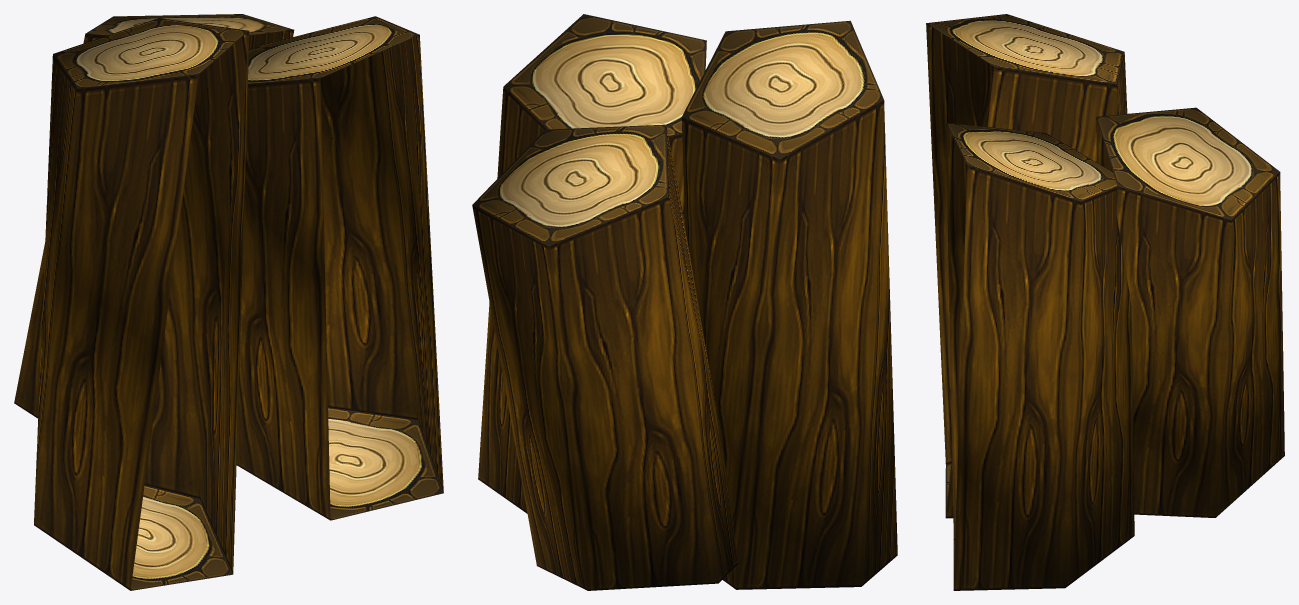
The model's file is Tree Log 04.FBX.
The picture shows the model from 3 angles, left to right: view 1: azimuth 30°, elevation 25°; view 2: azimuth 150°, elevation 25°; view 3: azimuth 270°, elevation 25°; orthographic projection. The views are drawn at different scales.
Parts seen in each view (by area): view 1: env_treelog04; view 2: env_treelog04; view 3: env_treelog04.
Boxes of the visible parts, x1=… form: env_treelog04: x1=14, y1=14, x2=443, y2=590; env_treelog04: x1=472, y1=14, x2=897, y2=590; env_treelog04: x1=926, y1=14, x2=1284, y2=590.
Size of the model in its own units: 92.81 by 120 by 82.22.
